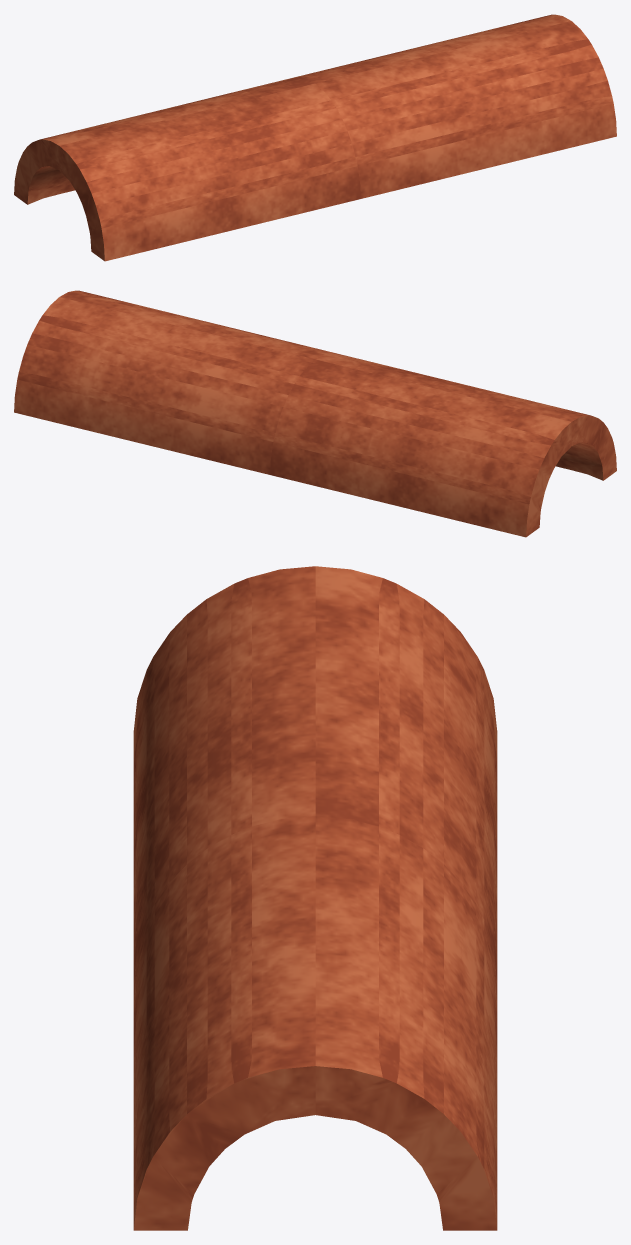
Rendered from roof_ridge_clay.glb.
3 views of the same model, one above another, from view 1: azimuth 30°, elevation 25°; view 2: azimuth 150°, elevation 25°; view 3: azimuth 270°, elevation 25° (orthographic). The views are drawn at different scales.
Parts seen in each view (by area): view 1: town_roof_ridge_clay; view 2: town_roof_ridge_clay; view 3: town_roof_ridge_clay.
Part boxes in pixels (x1=…): town_roof_ridge_clay: x1=14, y1=14, x2=616, y2=261; town_roof_ridge_clay: x1=14, y1=290, x2=616, y2=537; town_roof_ridge_clay: x1=133, y1=566, x2=497, y2=1230.
Bounding box in the file's own units: 1 × 0.1537 × 0.3073.
Materials: 1 (1 with a texture image).
